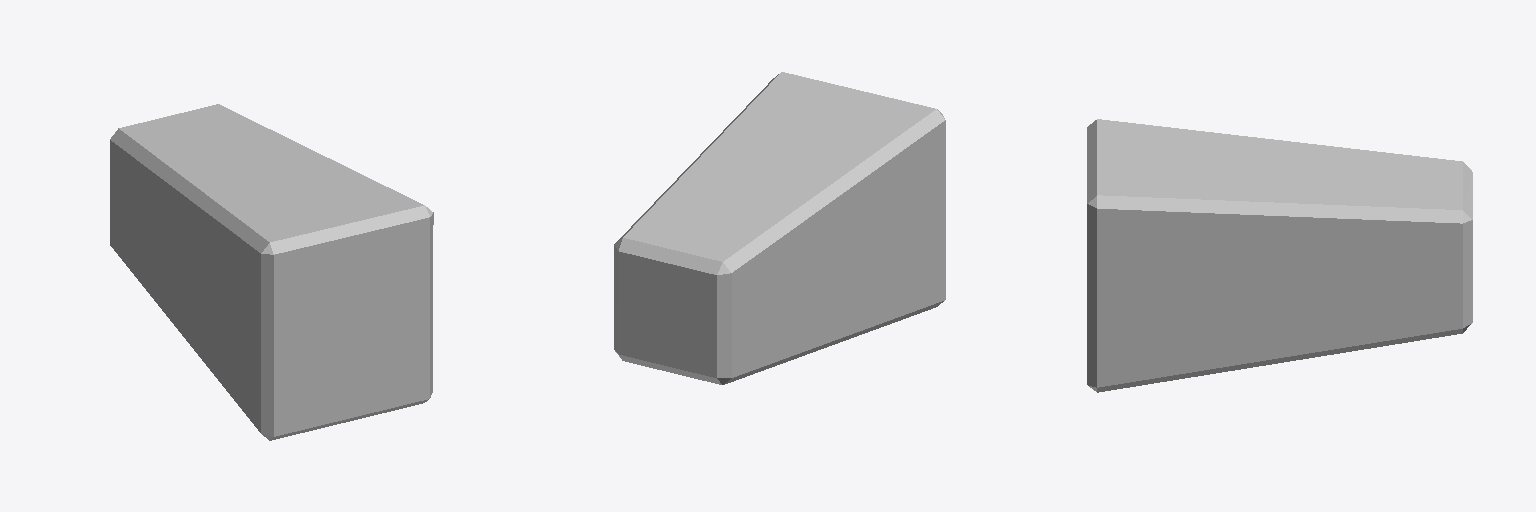
Rendered from trashnew.obj.
The picture shows the model from 3 angles: view 1: azimuth 30°, elevation 25°; view 2: azimuth 150°, elevation 25°; view 3: azimuth 270°, elevation 25°; orthographic projection.
Visible parts, largest first — view 1: Cube; view 2: Cube; view 3: Cube.
Boxes of the visible parts, <box> form: Cube: <box>110,104,433,440</box>; Cube: <box>614,72,945,384</box>; Cube: <box>1087,119,1472,392</box>.
Bounding box in the file's own units: 2.97 × 3.27 × 5.75.